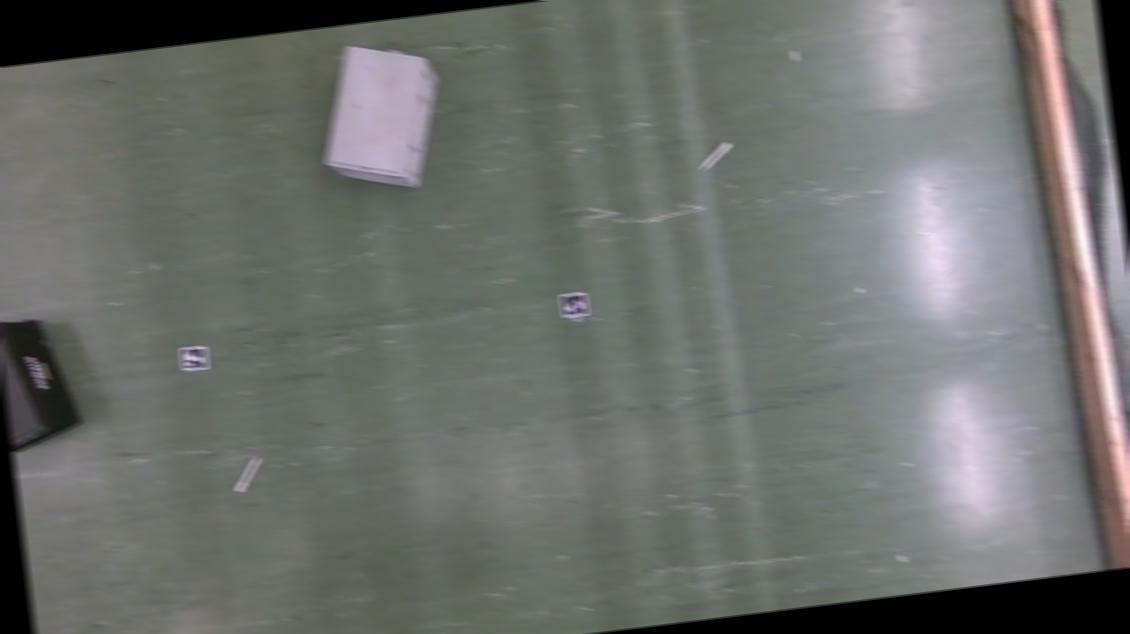probes: (230, 456, 264, 493), (694, 140, 733, 170)
rako: (308, 31, 453, 199), (0, 309, 85, 456)
